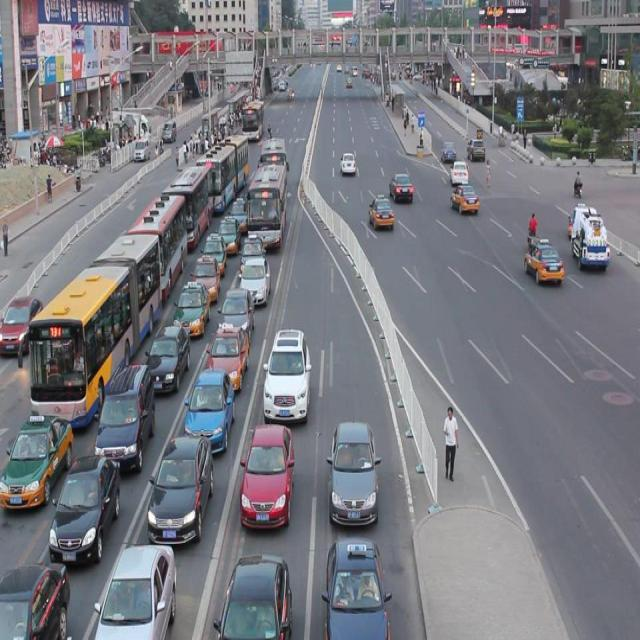bus: (570, 200, 608, 268)
car: (94, 538, 175, 640), (48, 452, 120, 554), (321, 535, 389, 640), (148, 428, 213, 536), (214, 551, 290, 640), (0, 411, 70, 503), (94, 358, 154, 461), (0, 554, 68, 640), (327, 417, 380, 517), (240, 422, 294, 517), (262, 325, 310, 415), (185, 364, 233, 442), (146, 317, 189, 386), (205, 320, 248, 384), (1, 293, 43, 354), (522, 238, 564, 286), (218, 284, 254, 339), (174, 278, 210, 330), (241, 252, 270, 298), (190, 250, 220, 294), (58, 288, 89, 326), (200, 229, 226, 269), (449, 181, 478, 215), (240, 228, 263, 270), (368, 192, 392, 229), (216, 210, 239, 246), (227, 191, 250, 226), (388, 172, 413, 201), (566, 201, 587, 235), (450, 160, 468, 186), (465, 138, 484, 162), (340, 152, 356, 174), (440, 138, 455, 161)
van: (16, 230, 160, 421), (123, 187, 186, 296), (197, 125, 247, 203), (247, 162, 286, 250), (168, 158, 208, 241), (258, 136, 289, 188)
